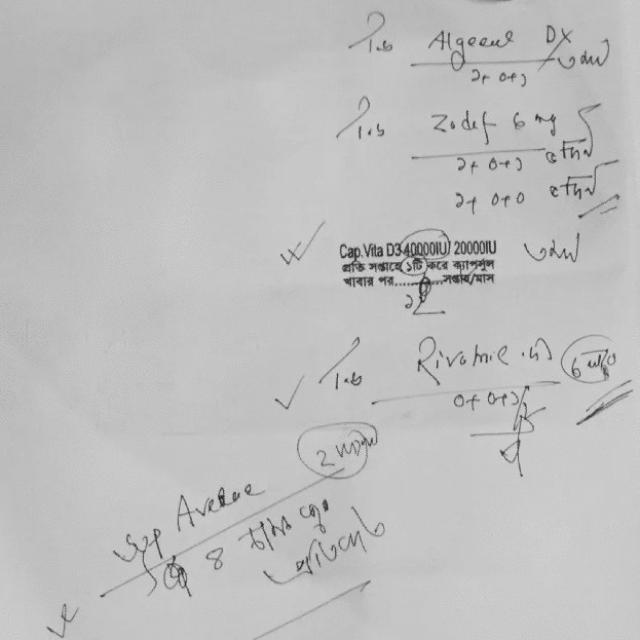medicine: (403, 323, 519, 387), (422, 18, 582, 60), (420, 94, 502, 147)
